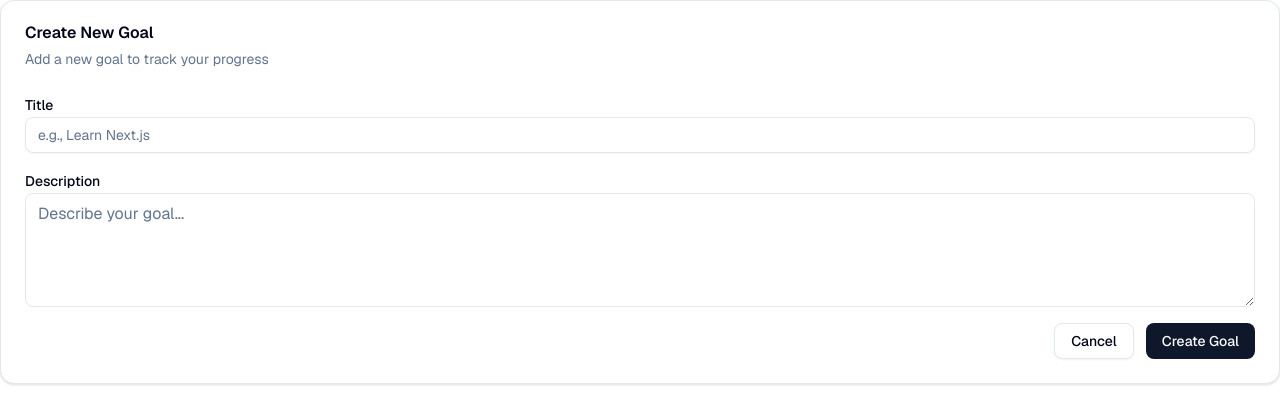
Test: GoalForm › Create Mode › disables form during submission
The width and height of the screenshot is (1280, 402).
Type "New Goal" into the field labelled "Title". click: point(640, 135)
box: 25,117 -> 1255,153
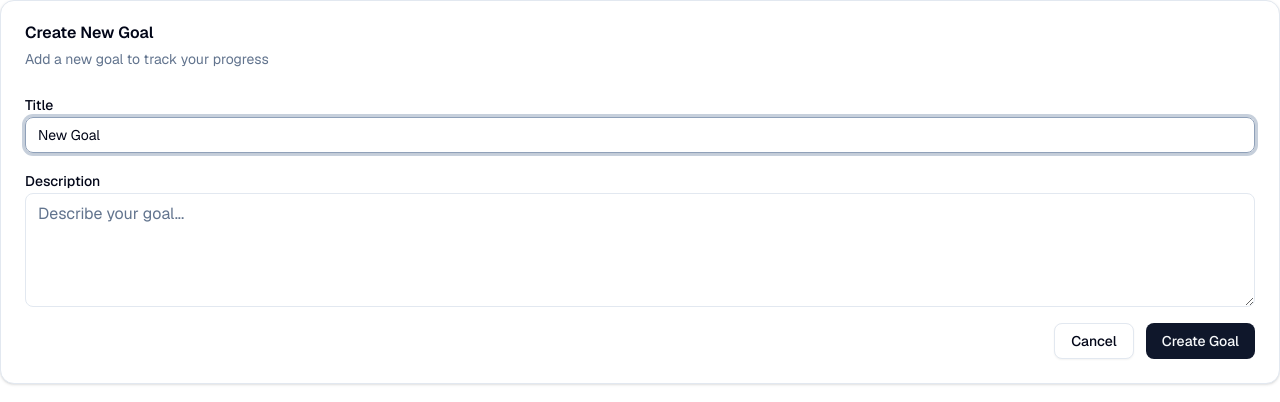
Type "New Description" into the text box labelled "Description". click: point(640, 250)
box: 25,193 -> 1255,307
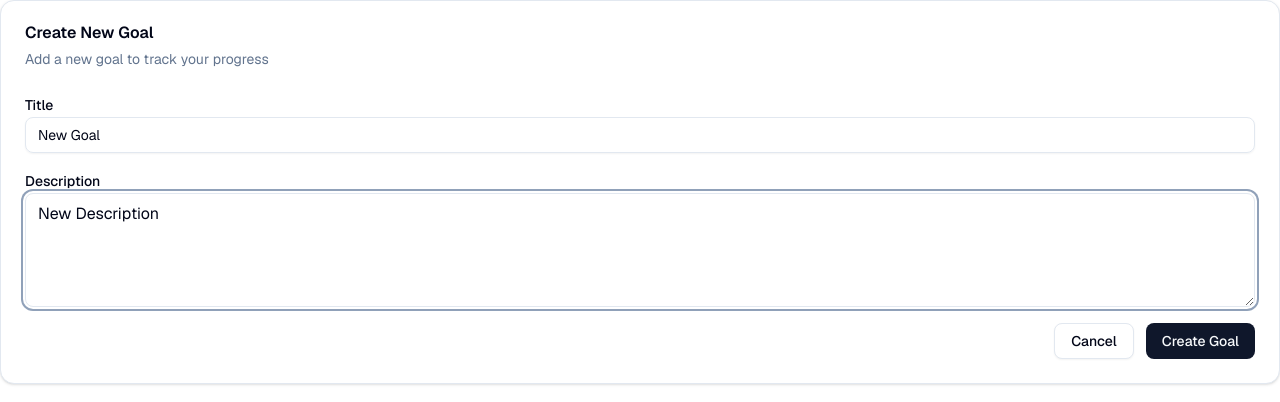
Click the button "Create Goal". click: point(1200, 341)
box: 1146,323 -> 1255,359
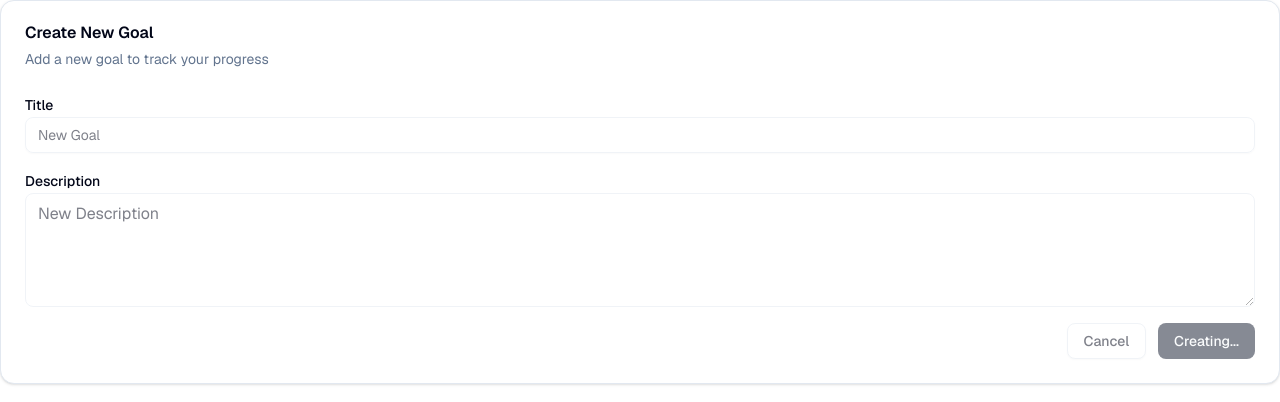
Check: the field labelled "Title" is disabled, box 25,117 -> 1255,153
Check: the text box labelled "Description" is disabled, box 25,193 -> 1255,307
Check: the button named "create goal" is disabled, box 1158,323 -> 1255,359
